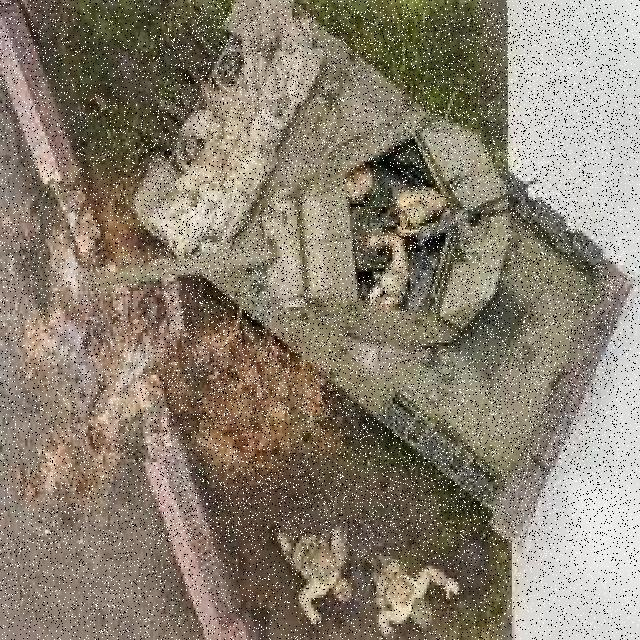MIL_MBT: (154, 8, 618, 541)
